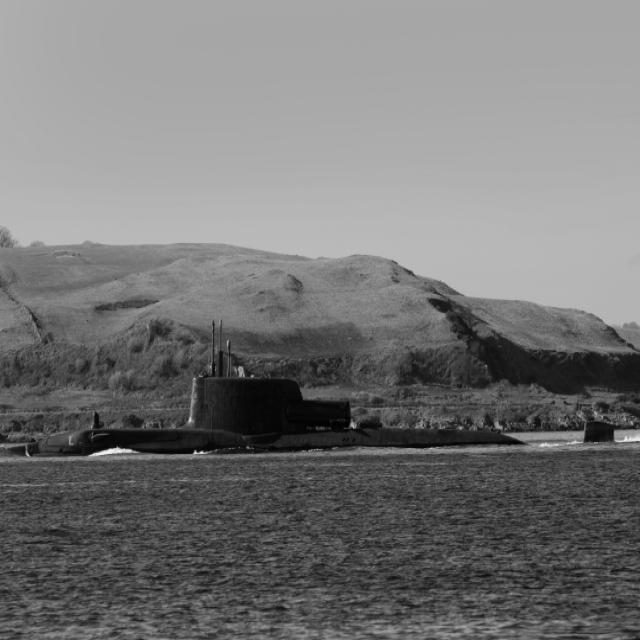submarine: (30, 376, 615, 458)
